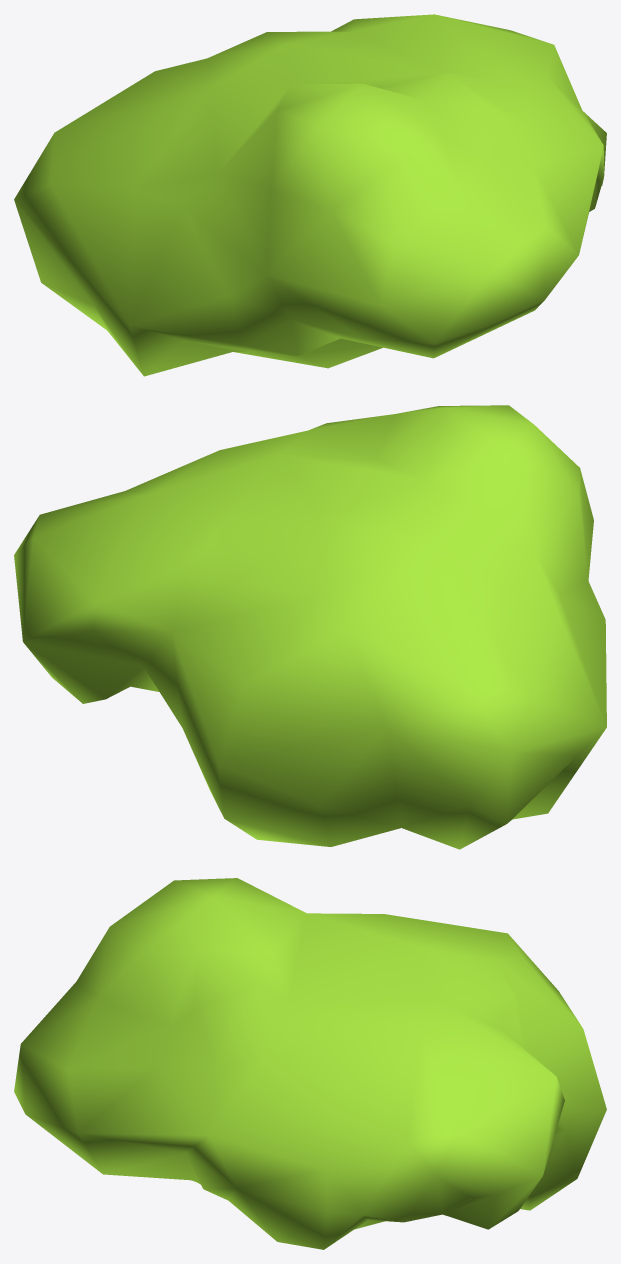
The model's file is env_garbage_slimeclump02.fbx.
3 renders of one model, top to bottom at view 1: azimuth 30°, elevation 25°; view 2: azimuth 150°, elevation 25°; view 3: azimuth 270°, elevation 25°, orthographic. The views are drawn at different scales.
Visible parts, largest first — view 1: slimeclump.002; view 2: slimeclump.002; view 3: slimeclump.002.
Part boxes in pixels (<box>): slimeclump.002: <box>14,14,606,376</box>; slimeclump.002: <box>14,405,606,849</box>; slimeclump.002: <box>14,878,606,1249</box>.
Bounding box in the file's own units: 7.43 × 4.31 × 7.42.
